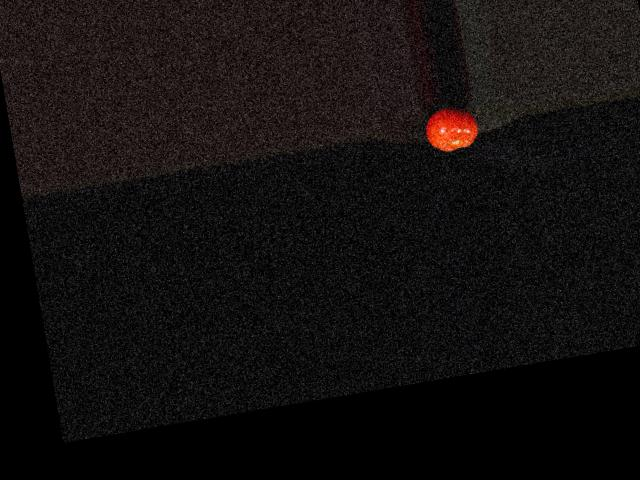tomato: (421, 103, 480, 154)
